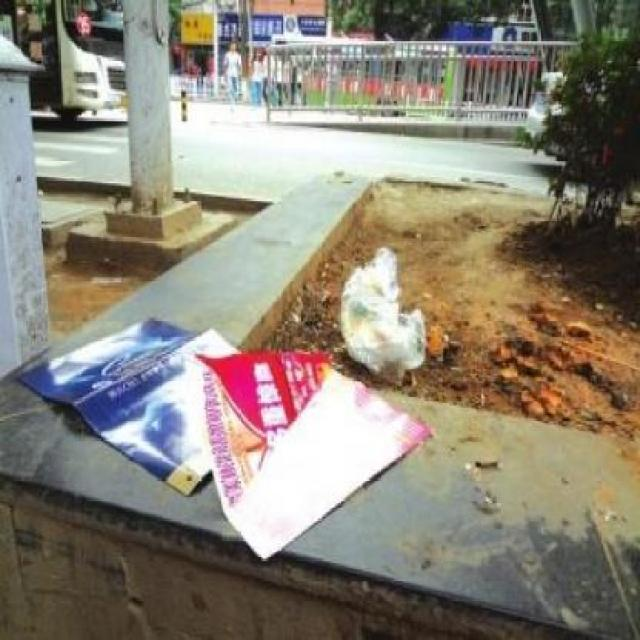garbage: (48, 332, 426, 560), (328, 243, 435, 400)
